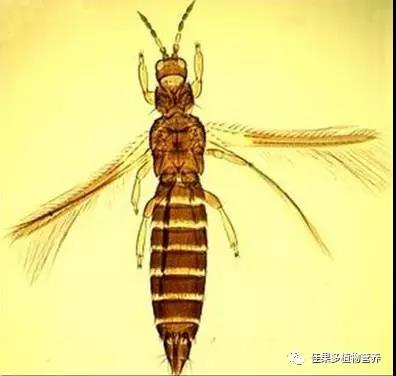Thripidae: (11, 1, 389, 373)
